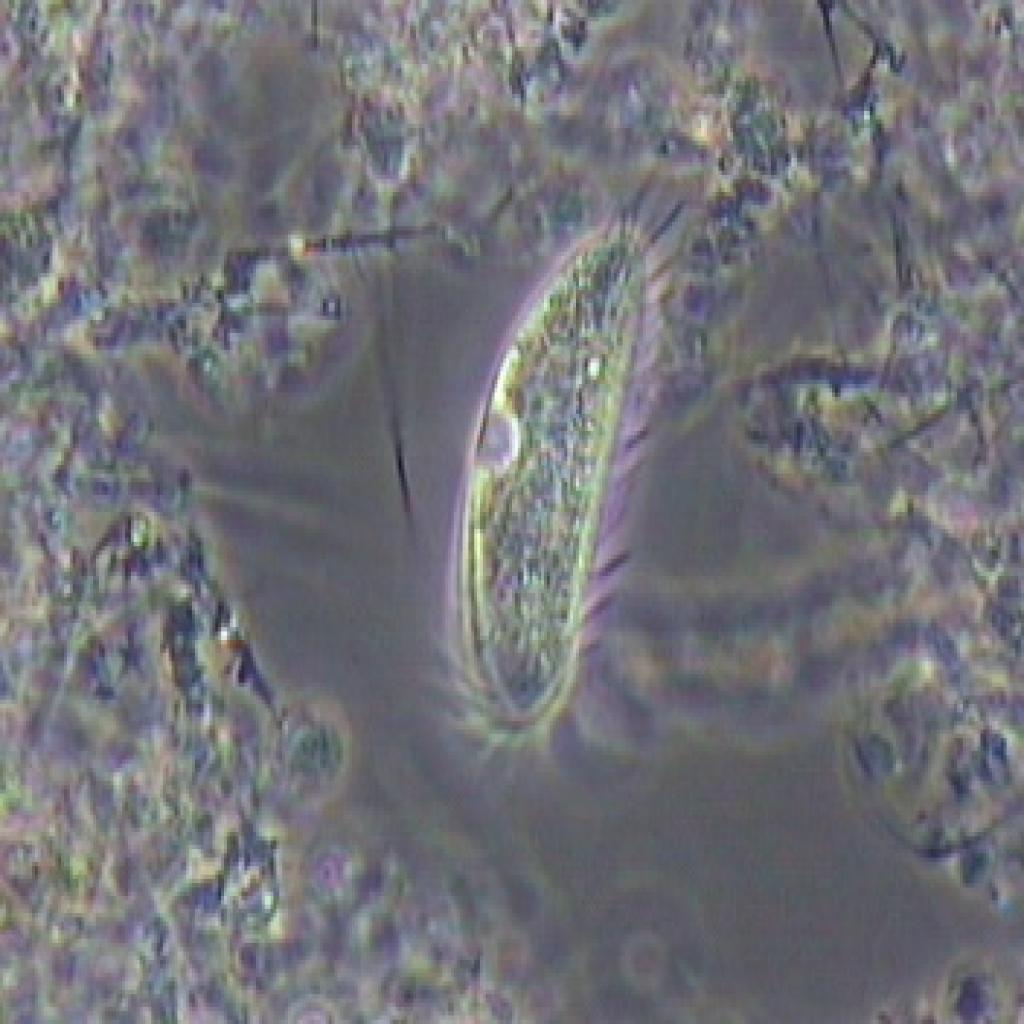Stylonychia: (362, 151, 676, 800)
